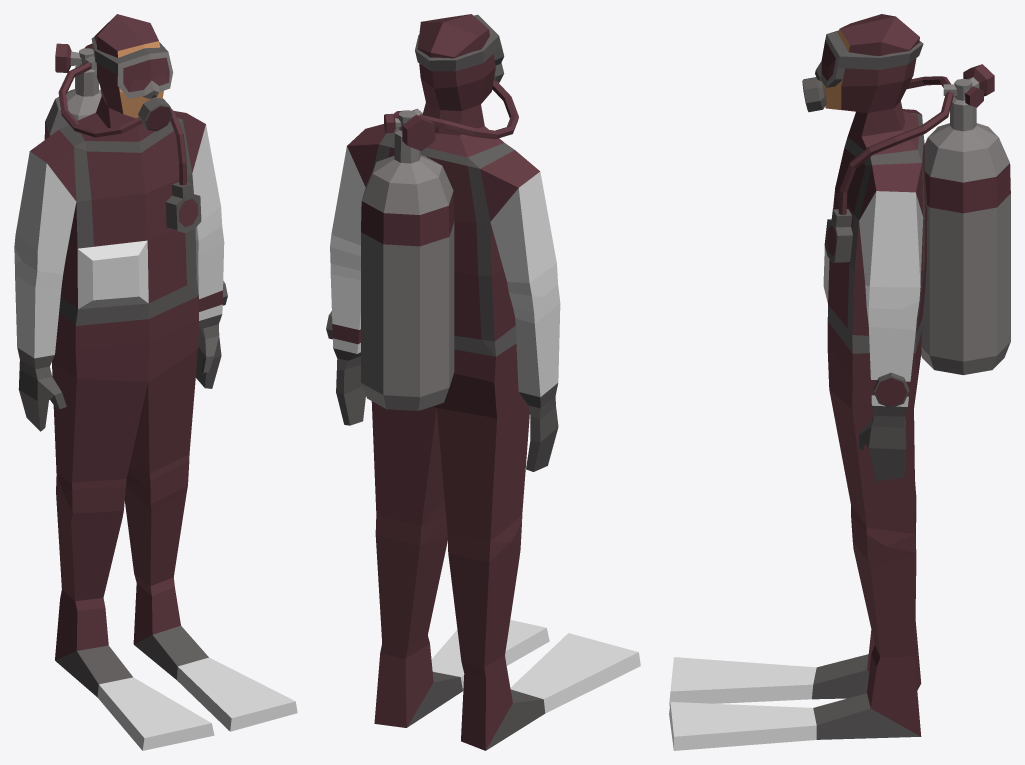
The model's file is man-scuba.fbx.
3 views of the same model, side by side, from view 1: azimuth 30°, elevation 25°; view 2: azimuth 150°, elevation 25°; view 3: azimuth 270°, elevation 25° (orthographic). The views are drawn at different scales.
Parts seen in each view (by area): view 1: man-scuba; view 2: man-scuba; view 3: man-scuba.
Boxes of the visible parts, x1=… form: man-scuba: x1=14, y1=14, x2=297, y2=750; man-scuba: x1=326, y1=14, x2=640, y2=750; man-scuba: x1=669, y1=14, x2=1010, y2=750.
Size of the model in its own units: 0.5687 by 1.79 by 0.7993.
